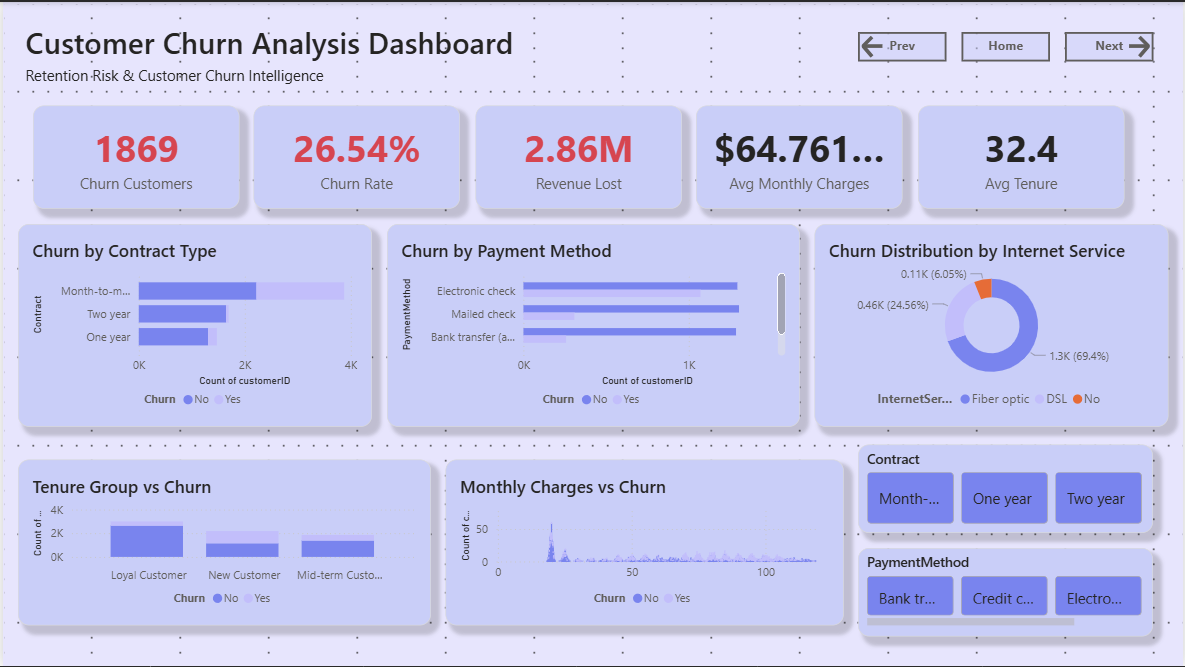

The dashboard page shown, as its layout file describes it:
{"tool":"powerbi","page":{"name":"Churn Analysis ","canvas":[1280,720],"ordinal":2},"visuals":[{"type":"textbox","box":[20,16,544,64],"z":0},{"type":"textbox","box":[20,64,496,32],"z":1000},{"type":"card","fields":{"Values":["fact_churn.Churn Customers"]},"box":[32,112,224,112],"z":2000},{"type":"card","fields":{"Values":["fact_churn.Churn Rate"]},"box":[272,112,224,112],"z":3000},{"type":"card","fields":{"Values":["fact_churn.Revenue Lost"]},"box":[512,112,224,112],"z":4000},{"type":"card","fields":{"Values":["fact_churn.Avg Monthly Charges"]},"box":[752,112,224,112],"z":5000},{"type":"card","fields":{"Values":["fact_churn.Avg Tenure"]},"box":[992,112,224,112],"z":6000},{"type":"barChart","title":"Churn by Contract Type","fields":{"Category":["dim_contract.Contract"],"Y":["CountNonNull(fact_churn.customerID)"],"Series":["fact_churn.Churn"]},"box":[16,240,384,220],"z":7000},{"type":"clusteredBarChart","title":"Churn by Payment Method","fields":{"Category":["dim_payment.PaymentMethod"],"Y":["CountNonNull(fact_churn.customerID)"],"Series":["fact_churn.Churn"]},"box":[416,240,448,220],"z":8000},{"type":"donutChart","title":"Churn Distribution by Internet Service","fields":{"Y":["CountNonNull(fact_churn.customerID)"],"Category":["telco_churn_clean (2).InternetService"]},"box":[880,240,384,220],"z":9000},{"type":"columnChart","title":"Tenure Group vs Churn","fields":{"Category":["fact_churn.Tenure_Group"],"Y":["CountNonNull(fact_churn.customerID)"],"Series":["fact_churn.Churn"]},"box":[16,496,448,180],"z":10000},{"type":"columnChart","title":"Monthly Charges vs Churn","fields":{"Y":["CountNonNull(fact_churn.customerID)"],"Category":["fact_churn.MonthlyCharges"],"Series":["fact_churn.Churn"]},"box":[480,496,432,180],"z":11000},{"type":"advancedSlicerVisual","fields":{"Values":["dim_contract.Contract"]},"box":[928,480,320,96],"z":12000},{"type":"advancedSlicerVisual","fields":{"Values":["dim_payment.PaymentMethod"]},"box":[928,592,320,96],"z":13000},{"type":"actionButton","box":[1152,32,96,32],"z":14000},{"type":"actionButton","box":[1040,32,96,32],"z":15000},{"type":"actionButton","box":[928,32,96,32],"z":16000}]}

Visuals, with their boxes in screenshot pixels (x1, y1, x2, y2), scaled from the page's 1280x720 canvas onto the 1185x667 screenshot:
textbox: [19,15,522,74]
textbox: [19,59,478,89]
card - fact_churn.Churn Customers: [30,104,237,208]
card - fact_churn.Churn Rate: [252,104,459,208]
card - fact_churn.Revenue Lost: [474,104,681,208]
card - fact_churn.Avg Monthly Charges: [696,104,904,208]
card - fact_churn.Avg Tenure: [918,104,1126,208]
"Churn by Contract Type" barChart: [15,222,370,426]
"Churn by Payment Method" clusteredBarChart: [385,222,800,426]
"Churn Distribution by Internet Service" donutChart: [815,222,1170,426]
"Tenure Group vs Churn" columnChart: [15,459,430,626]
"Monthly Charges vs Churn" columnChart: [444,459,844,626]
advancedSlicerVisual - dim_contract.Contract: [859,445,1155,534]
advancedSlicerVisual - dim_payment.PaymentMethod: [859,548,1155,637]
actionButton: [1066,30,1155,59]
actionButton: [963,30,1052,59]
actionButton: [859,30,948,59]
